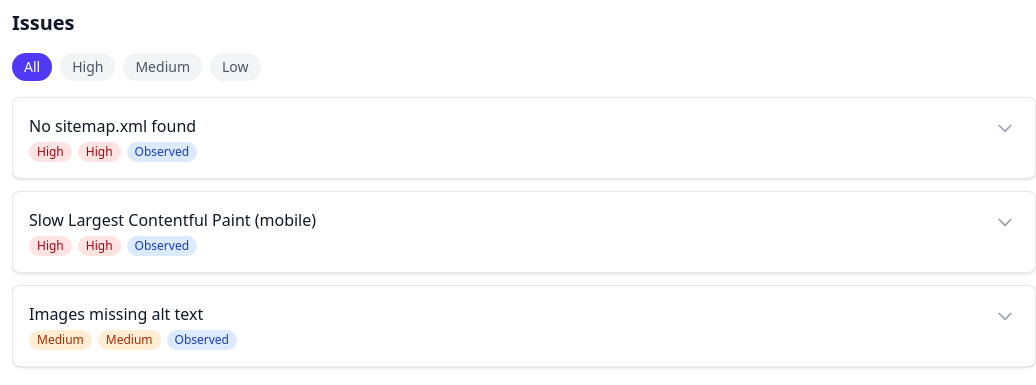
IssuesList (US-5.4) › filter by severity works
Expected: the number of elements with test id "issue-card" is 3, [12, 97, 1035, 179]; [12, 191, 1035, 273]; [12, 285, 1035, 367]
Click "High" filter
Click the button "High" at point(88, 67), box [60, 53, 116, 81]
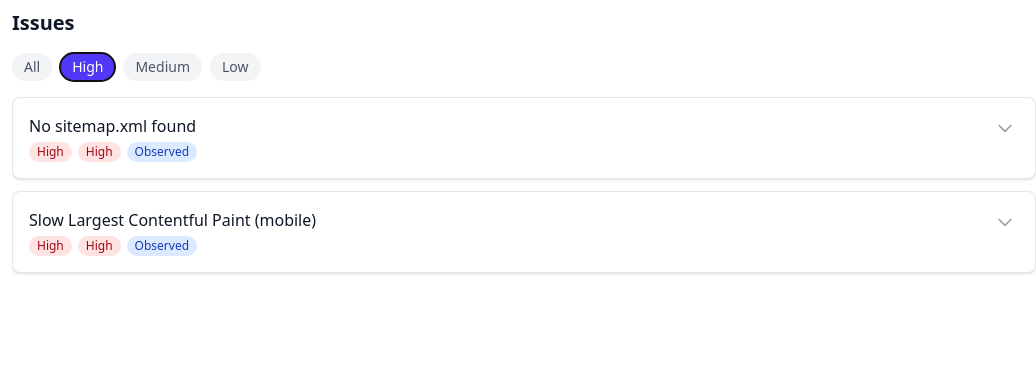
Expected: the number of elements with test id "issue-card" is 2, [12, 97, 1035, 179]; [12, 191, 1035, 273]
Click "Medium" filter
Click the button "Medium" at point(163, 67), box [123, 53, 202, 81]
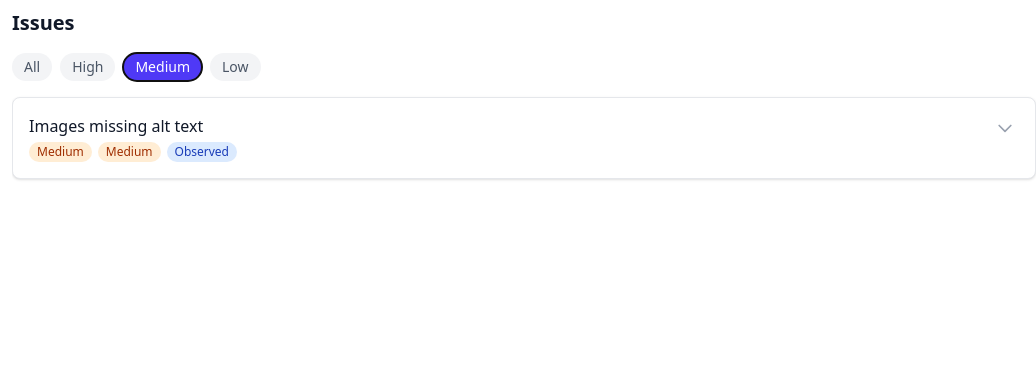
Expected: the number of elements with test id "issue-card" is 1, [12, 97, 1035, 179]
Expected: the heading "Images missing alt text" is shown, [29, 114, 203, 138]
Click "All" to reset
Click the button "All" at point(32, 67), box [12, 53, 52, 81]
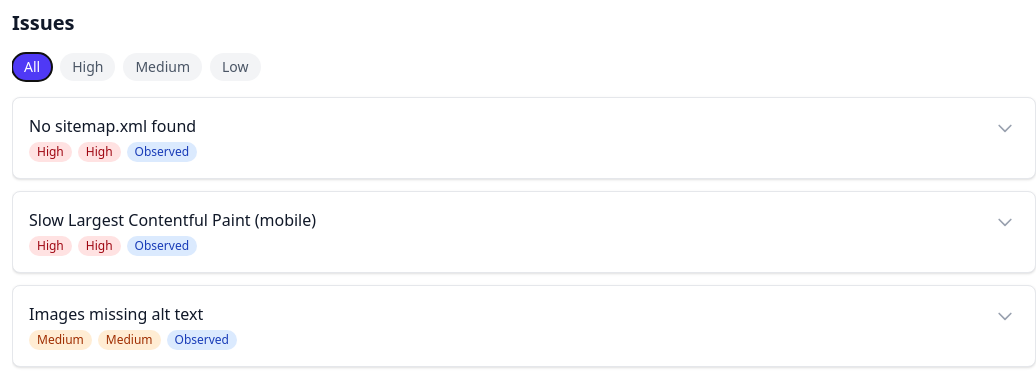
Expected: the number of elements with test id "issue-card" is 3, [12, 97, 1035, 179]; [12, 191, 1035, 273]; [12, 285, 1035, 367]
